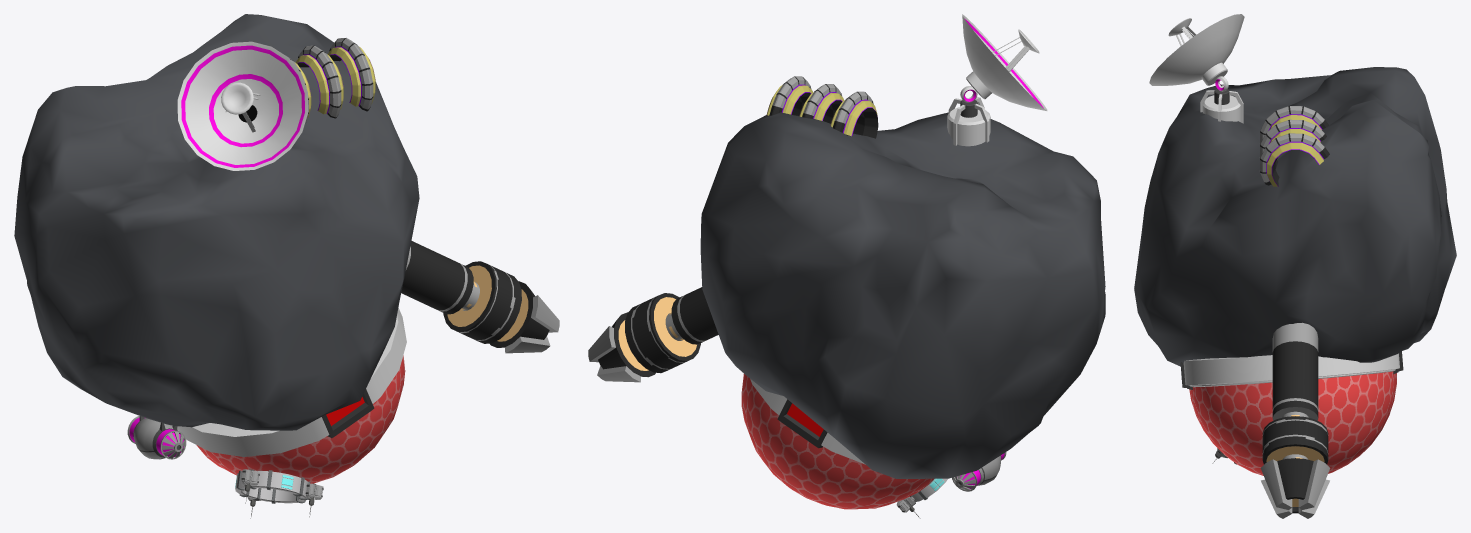
The model's file is PodBase_02.fbx.
3 views of the same model, side by side, from view 1: azimuth 30°, elevation 25°; view 2: azimuth 150°, elevation 25°; view 3: azimuth 270°, elevation 25° (orthographic). The views are drawn at different scales.
Parts seen in each view (by area): view 1: SM_Env_Astroid_06, Antenna_05, TowerDevice_05, DomeGate_01, DomeSphere_01, RingGate_02, DualEnded_05, GroundRing_05, GroundRing_06; view 2: SM_Env_Astroid_06, DomeSphere_01, TowerDevice_05, Antenna_05, DomeGate_01, GroundRing_07, GroundRing_05, GroundRing_06, DualEnded_05, RingGate_02; view 3: SM_Env_Astroid_06, DomeSphere_01, TowerDevice_05, Antenna_05, DomeGate_01, GroundRing_05, GroundRing_07, GroundRing_06.
Boxes of the visible parts, bbox=[...] form: SM_Env_Astroid_06: bbox=[14, 14, 419, 430]; Antenna_05: bbox=[177, 41, 308, 170]; TowerDevice_05: bbox=[401, 241, 559, 353]; DomeGate_01: bbox=[177, 307, 406, 456]; DomeSphere_01: bbox=[196, 355, 405, 483]; RingGate_02: bbox=[235, 469, 323, 518]; DualEnded_05: bbox=[127, 416, 186, 459]; GroundRing_05: bbox=[328, 38, 375, 111]; GroundRing_06: bbox=[296, 45, 343, 118]; SM_Env_Astroid_06: bbox=[700, 112, 1105, 478]; DomeSphere_01: bbox=[741, 374, 934, 509]; TowerDevice_05: bbox=[588, 287, 718, 382]; Antenna_05: bbox=[947, 14, 1047, 146]; DomeGate_01: bbox=[750, 379, 865, 464]; GroundRing_07: bbox=[830, 91, 878, 138]; GroundRing_05: bbox=[766, 76, 812, 115]; GroundRing_06: bbox=[799, 84, 843, 123]; DualEnded_05: bbox=[952, 452, 1006, 491]; RingGate_02: bbox=[896, 478, 947, 518]; SM_Env_Astroid_06: bbox=[1134, 67, 1456, 366]; DomeSphere_01: bbox=[1189, 371, 1396, 475]; TowerDevice_05: bbox=[1260, 322, 1330, 518]; Antenna_05: bbox=[1149, 14, 1244, 123]; DomeGate_01: bbox=[1180, 351, 1403, 389]; GroundRing_05: bbox=[1260, 133, 1329, 186]; GroundRing_07: bbox=[1260, 106, 1328, 144]; GroundRing_06: bbox=[1259, 119, 1326, 168].
Bounding box in the file's own units: 497 × 461 × 308.
